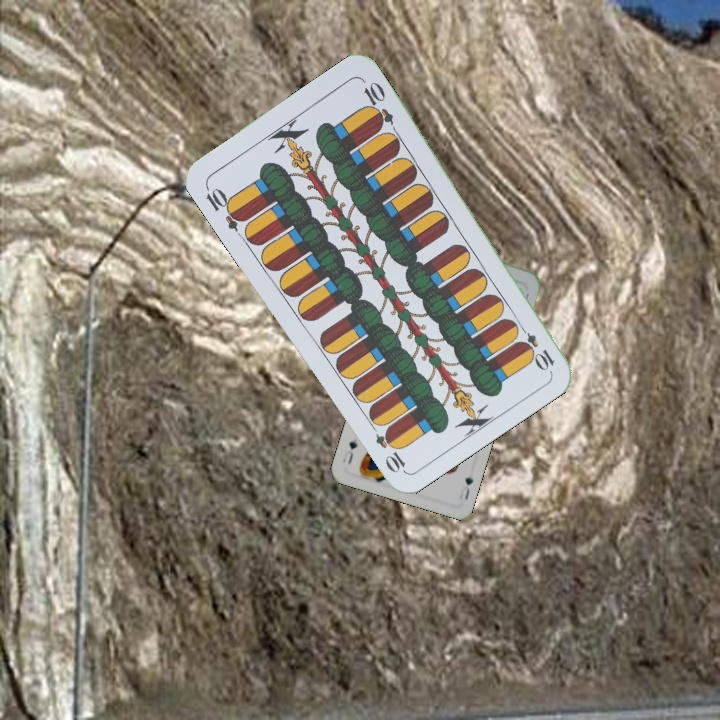E10: (201, 181, 248, 234), (513, 320, 557, 373)
GU: (455, 473, 476, 502)
